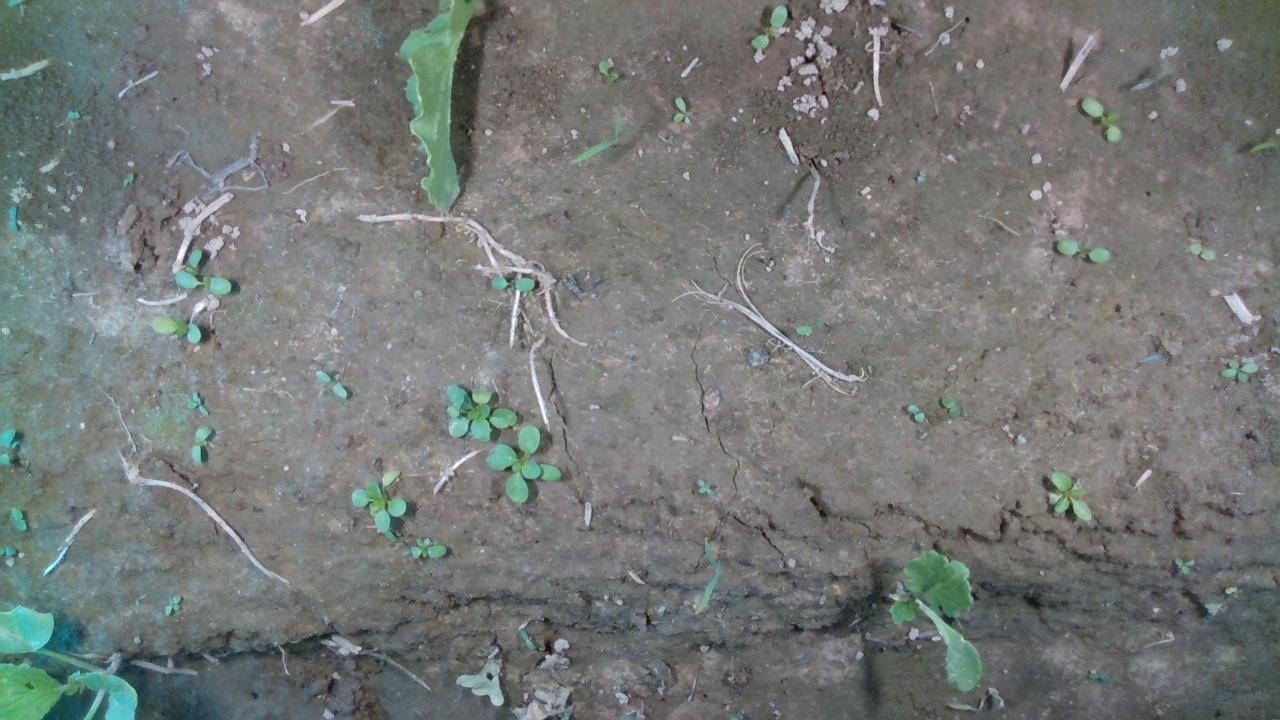weed: (1046, 469, 1093, 521), (1079, 94, 1121, 144), (750, 3, 786, 51), (150, 312, 201, 344), (171, 269, 233, 295), (1055, 238, 1110, 264), (311, 368, 348, 400), (189, 424, 214, 466), (1220, 359, 1259, 383), (409, 536, 447, 560), (489, 275, 535, 292), (184, 389, 210, 416), (672, 94, 695, 124), (938, 394, 961, 419), (7, 504, 27, 532), (1185, 241, 1215, 259), (903, 402, 925, 423), (595, 59, 617, 79), (1172, 556, 1194, 575)
